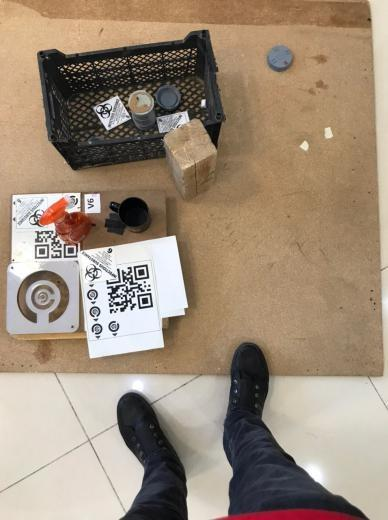infectious-substance: (94, 94, 132, 130), (82, 248, 119, 283), (13, 197, 49, 229)
